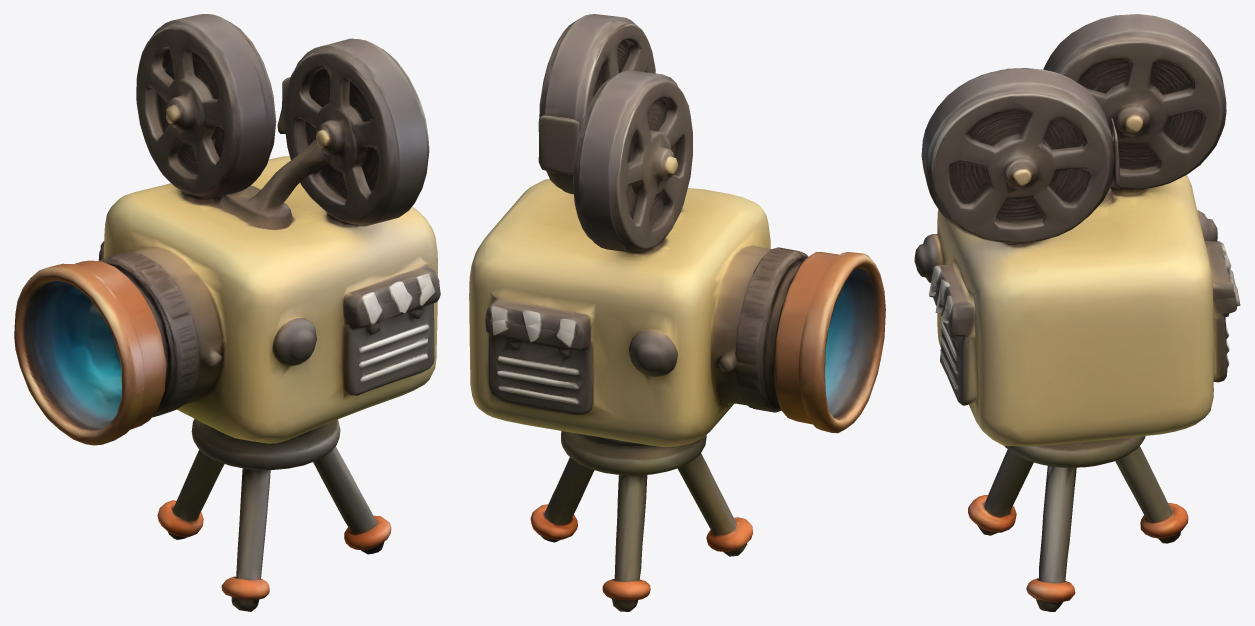
Rendered from director-detail.glb.
3 views of the same model, side by side, from view 1: azimuth 30°, elevation 25°; view 2: azimuth 150°, elevation 25°; view 3: azimuth 270°, elevation 25° (orthographic). The views are drawn at different scales.
Parts seen in each view (by area): view 1: tripo_node_f98f1f20-01b5-4deb-a06c-01919cd317f1; view 2: tripo_node_f98f1f20-01b5-4deb-a06c-01919cd317f1; view 3: tripo_node_f98f1f20-01b5-4deb-a06c-01919cd317f1.
Boxes of the visible parts, left/top/right/bottom form: tripo_node_f98f1f20-01b5-4deb-a06c-01919cd317f1: left=14, top=14, right=440, bottom=611; tripo_node_f98f1f20-01b5-4deb-a06c-01919cd317f1: left=469, top=14, right=885, bottom=611; tripo_node_f98f1f20-01b5-4deb-a06c-01919cd317f1: left=914, top=14, right=1240, bottom=611.
Bounding box in the file's own units: 0.6964 × 0.9807 × 0.5446.
1 material, 1 textured.
